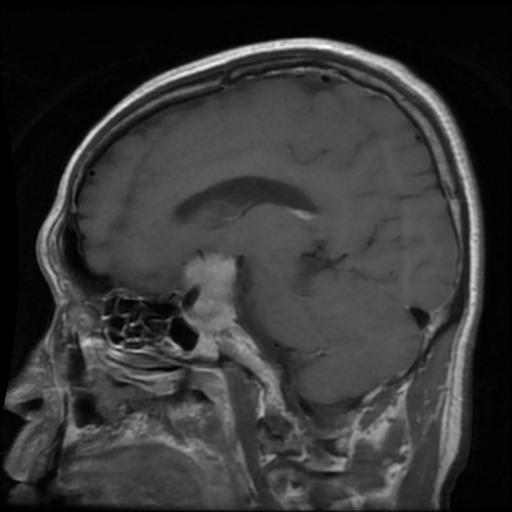Pituirity_tumour: (179, 250, 237, 334)
